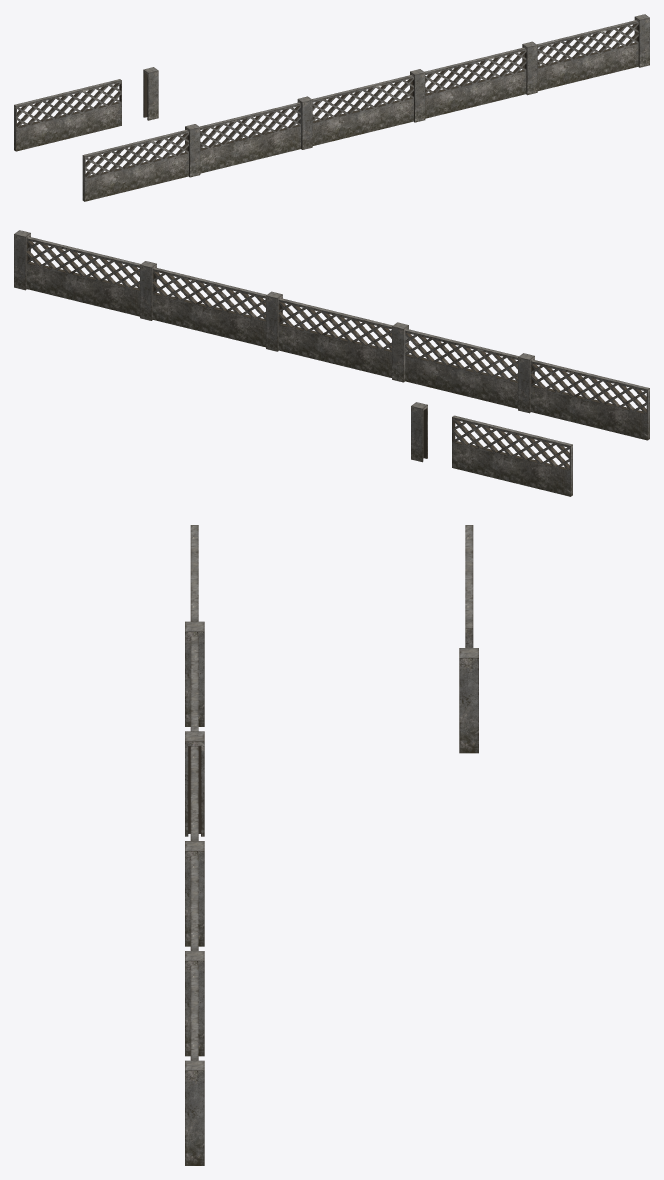
Rendered from garden_cement_fence_wall_building.glb.
3 views of the same model, one above another, from view 1: azimuth 30°, elevation 25°; view 2: azimuth 150°, elevation 25°; view 3: azimuth 270°, elevation 25° (orthographic). The views are drawn at different scales.
Visible parts, largest first — view 1: all, 01_Mat_0, 02_Mat_0; view 2: all, 01_Mat_0, 02_Mat_0; view 3: all, 02_Mat_0, 01_Mat_0.
Boxes of the visible parts, <box> form: all: <box>82,14,649,201</box>; 01_Mat_0: <box>14,79,121,151</box>; 02_Mat_0: <box>143,67,158,120</box>; all: <box>14,230,649,440</box>; 01_Mat_0: <box>452,415,572,496</box>; 02_Mat_0: <box>411,402,427,462</box>; all: <box>185,525,204,1165</box>; 02_Mat_0: <box>459,648,478,753</box>; 01_Mat_0: <box>465,525,473,647</box>.
Bounding box in the file's own units: 7.98 × 0.644 × 1.8.
1 material, 1 textured.
